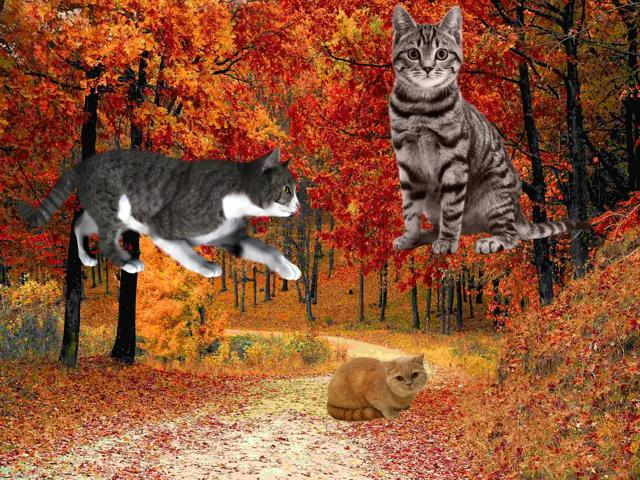cat: (14, 17, 313, 322), (389, 4, 591, 255), (328, 354, 429, 422)
